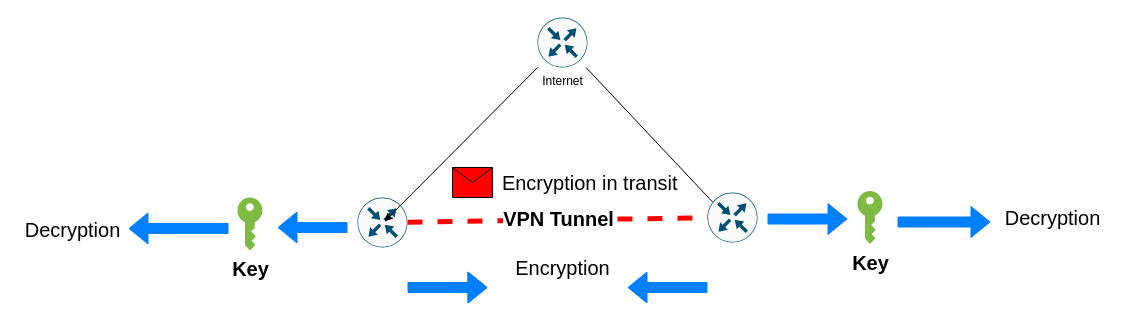
Some shapes in this 1124 by 321 pixel diagram are drawn without their labels. The shapes that lost their labels are listed below. From the top down, each one's centre as x and y in pixels, then its label:
At (382,222): "Internal Router".
At (732,217): "External Router".
